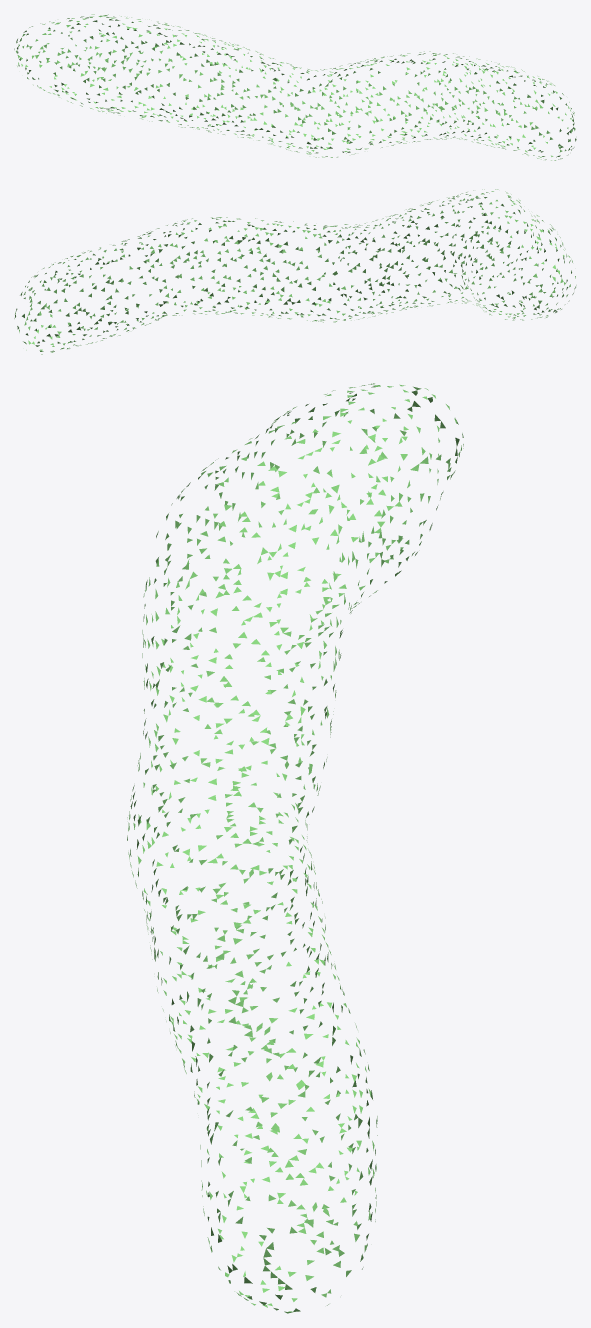
Rendered from morph_016.glb.
The picture shows the model from 3 angles, top to bottom: view 1: azimuth 30°, elevation 25°; view 2: azimuth 150°, elevation 25°; view 3: azimuth 270°, elevation 25°; orthographic projection. The views are drawn at different scales.
Bounding box in the file's own units: 101 × 43.75 × 28.15.
